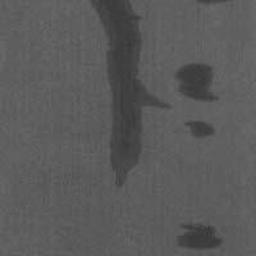Oil spot: (87, 0, 173, 191), (173, 61, 221, 104), (175, 221, 225, 252), (183, 119, 218, 140), (192, 0, 233, 6)
